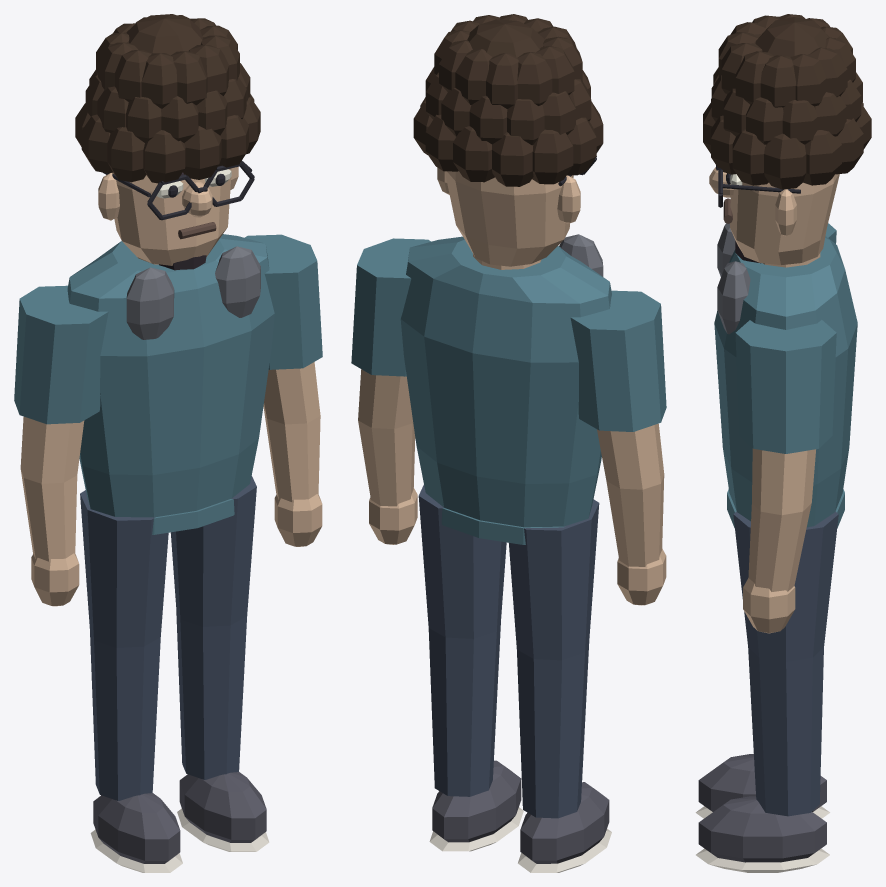
File: biffe.glb
3 renders of one model, left to right at view 1: azimuth 30°, elevation 25°; view 2: azimuth 150°, elevation 25°; view 3: azimuth 270°, elevation 25°, orthographic. The views are drawn at different scales.
Parts seen in each view (by area): view 1: Torso, Leg, Leg.001, Sleeve, Arm, Arm.001, Sleeve.001, Face, Shoe.001, Shoe, HeadphoneCup, HeadphoneCup.001 (+25 smaller); view 2: Torso, Leg, Leg.001, Sleeve, Face, Arm, Sleeve.001, Arm.001, Shoe.001, Shoe, Crown, Curl.005 (+22 smaller); view 3: Leg.001, Torso, Sleeve.001, Arm.001, Face, Shoe.001, Shoe, Crown, Hand.001, Curl, HeadphoneCup.001, Curl.001 (+22 smaller).
Boxes of the visible parts, left/top/right/bottom form: Torso: left=67, top=234, right=274, bottom=517; Leg: left=80, top=490, right=168, bottom=800; Leg.001: left=170, top=476, right=256, bottom=779; Sleeve: left=14, top=285, right=108, bottom=424; Arm: left=20, top=416, right=84, bottom=561; Arm.001: left=263, top=362, right=320, bottom=502; Sleeve.001: left=245, top=234, right=322, bottom=369; Face: left=106, top=168, right=231, bottom=265; Shoe.001: left=179, top=772, right=266, bottom=842; Shoe: left=93, top=793, right=180, bottom=863; HeadphoneCup: left=126, top=267, right=174, bottom=339; HeadphoneCup.001: left=215, top=246, right=260, bottom=317; Torso: left=400, top=236, right=611, bottom=527; Leg: left=509, top=499, right=599, bottom=818; Leg.001: left=418, top=485, right=506, bottom=796; Sleeve: left=570, top=290, right=666, bottom=431; Face: left=445, top=171, right=573, bottom=266; Arm: left=597, top=423, right=664, bottom=566; Sleeve.001: left=351, top=238, right=430, bottom=376; Arm.001: left=358, top=369, right=415, bottom=506; Shoe.001: left=432, top=760, right=521, bottom=842; Shoe: left=520, top=782, right=609, bottom=863; Crown: left=467, top=19, right=544, bottom=57; Curl.005: left=532, top=129, right=573, bottom=184; Leg.001: left=733, top=511, right=838, bottom=816; Torso: left=714, top=236, right=857, bottom=527; Sleeve.001: left=735, top=320, right=836, bottom=453; Arm.001: left=748, top=448, right=815, bottom=591; Face: left=730, top=174, right=839, bottom=264; Shoe.001: left=698, top=796, right=826, bottom=862; Shoe: left=698, top=754, right=826, bottom=811; Crown: left=755, top=17, right=829, bottom=56; Hand.001: left=743, top=578, right=795, bottom=633; Curl: left=764, top=133, right=806, bottom=189; HeadphoneCup.001: left=717, top=261, right=750, bottom=334; Curl.001: left=803, top=130, right=841, bottom=185.
Size of the model in its own units: 0.7783 by 2.05 by 0.3969.
